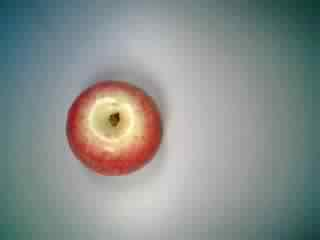apple: (60, 75, 164, 179)
